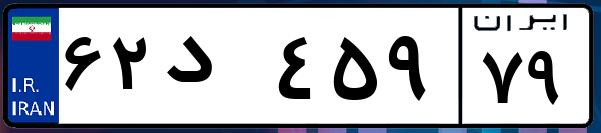2: (110, 28, 158, 98)
4: (270, 28, 330, 110)
5: (330, 28, 385, 110)
6: (57, 26, 110, 100)
7: (475, 38, 525, 113)
9: (385, 28, 445, 110), (525, 38, 570, 115)
د: (158, 20, 270, 120)
